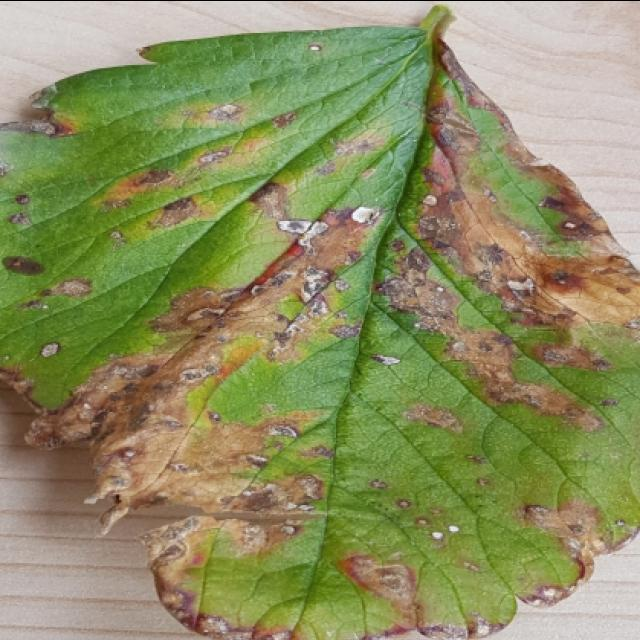Angular Leafspot: (0, 25, 638, 638)
